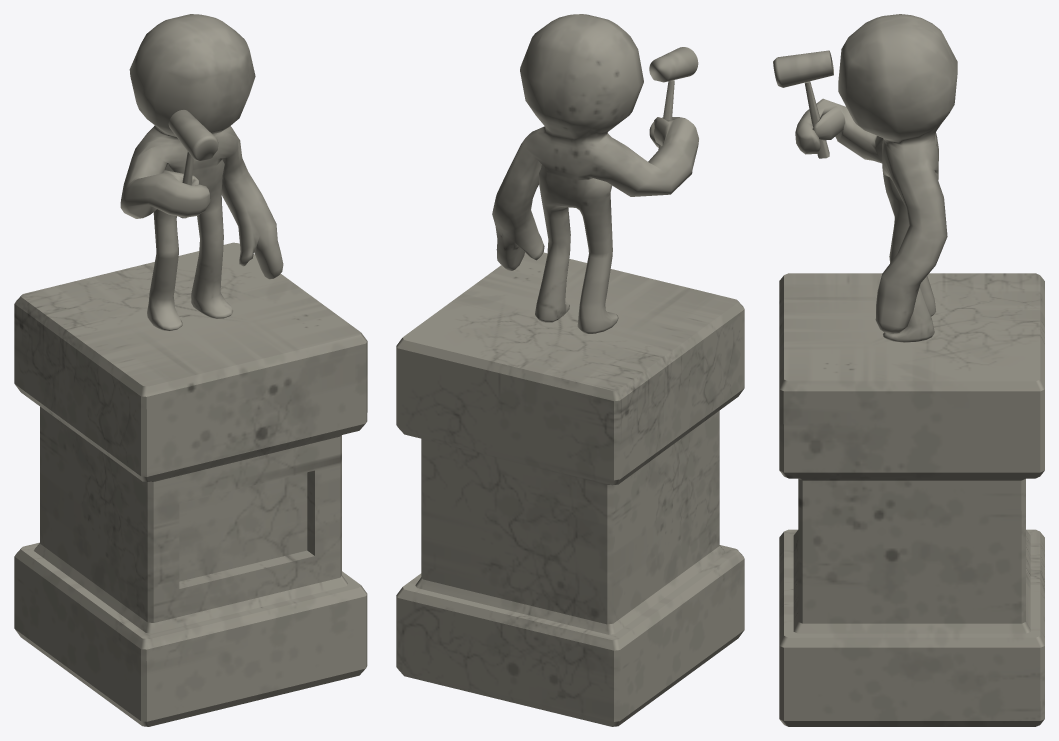
The model's file is WIP statue.fbx.
The picture shows the model from 3 angles, left to right: view 1: azimuth 30°, elevation 25°; view 2: azimuth 150°, elevation 25°; view 3: azimuth 270°, elevation 25°; orthographic projection. The views are drawn at different scales.
Parts seen in each view (by area): view 1: polySurface306; view 2: polySurface306; view 3: polySurface306.
Part boxes in pixels (x1,y1,x2,y2): polySurface306: [14, 14, 367, 726]; polySurface306: [396, 14, 744, 726]; polySurface306: [773, 14, 1044, 726].
Bounding box in the file's own units: 0.5583 × 1.51 × 0.5716.
Materials: 1 (1 with a texture image).
